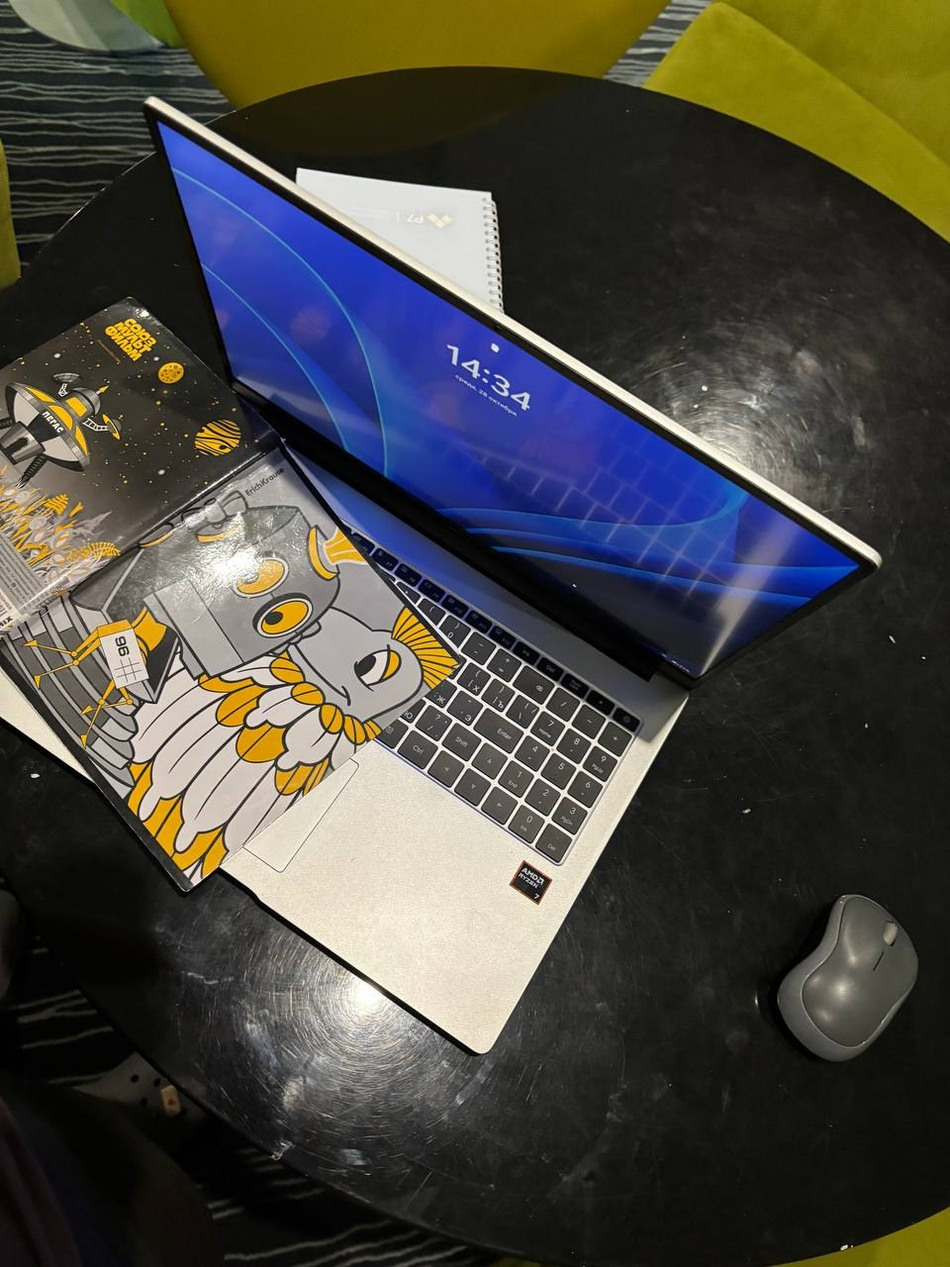laptop: (6, 94, 883, 1056)
